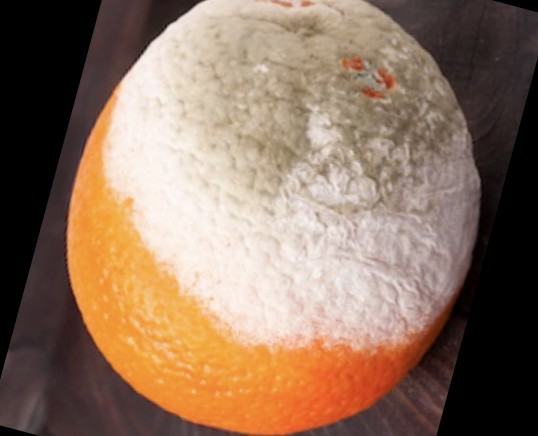rotten_orange: (68, 1, 479, 433)
